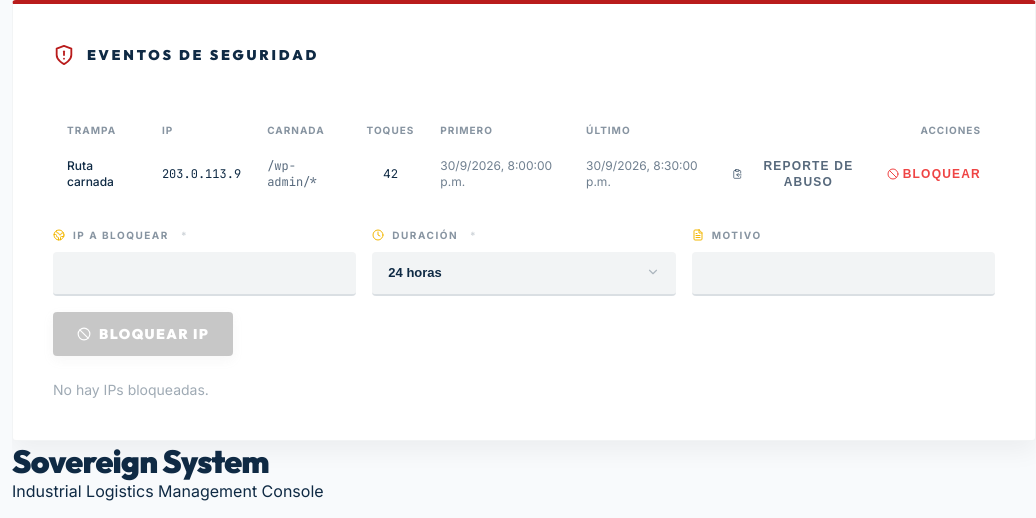
Scenario: SecurityEventsCard › copia el reporte de abuso con la IP, el vector y las fechas UTC
Click the button "Reporte de abuso" at {"x": 801, "y": 174}, box [732,158,871,190]
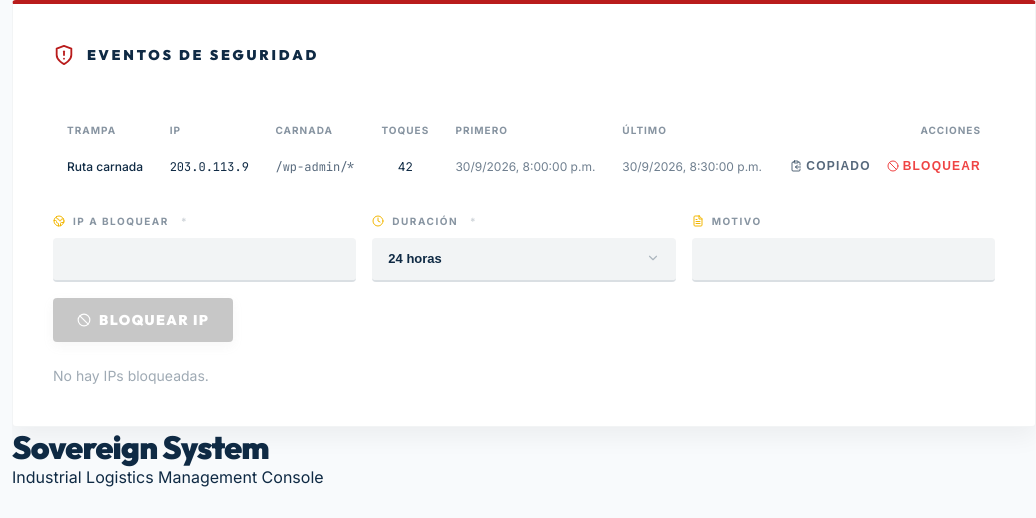
expect the button "Copiado" is shown: met, box [790,158,871,174]
